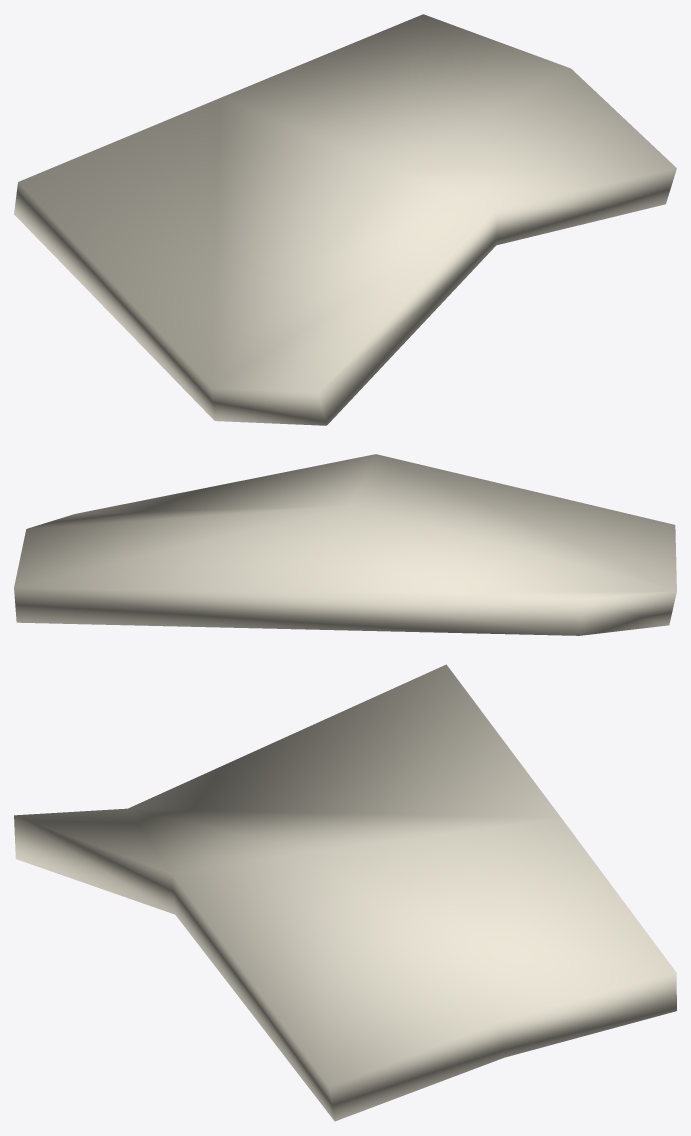
The picture shows the model from 3 angles, top to bottom: view 1: azimuth 30°, elevation 25°; view 2: azimuth 150°, elevation 25°; view 3: azimuth 270°, elevation 25°; orthographic projection. The views are drawn at different scales.
Parts seen in each view (by area): view 1: ZA_2ae1c11b90d8ab75; view 2: ZA_2ae1c11b90d8ab75; view 3: ZA_2ae1c11b90d8ab75.
Part boxes in pixels (<box>): ZA_2ae1c11b90d8ab75: <box>14,14,676,425</box>; ZA_2ae1c11b90d8ab75: <box>14,454,676,635</box>; ZA_2ae1c11b90d8ab75: <box>14,664,676,1121</box>.
Bounding box in the file's own units: 0.00854 × 0.00197 × 0.00747.
